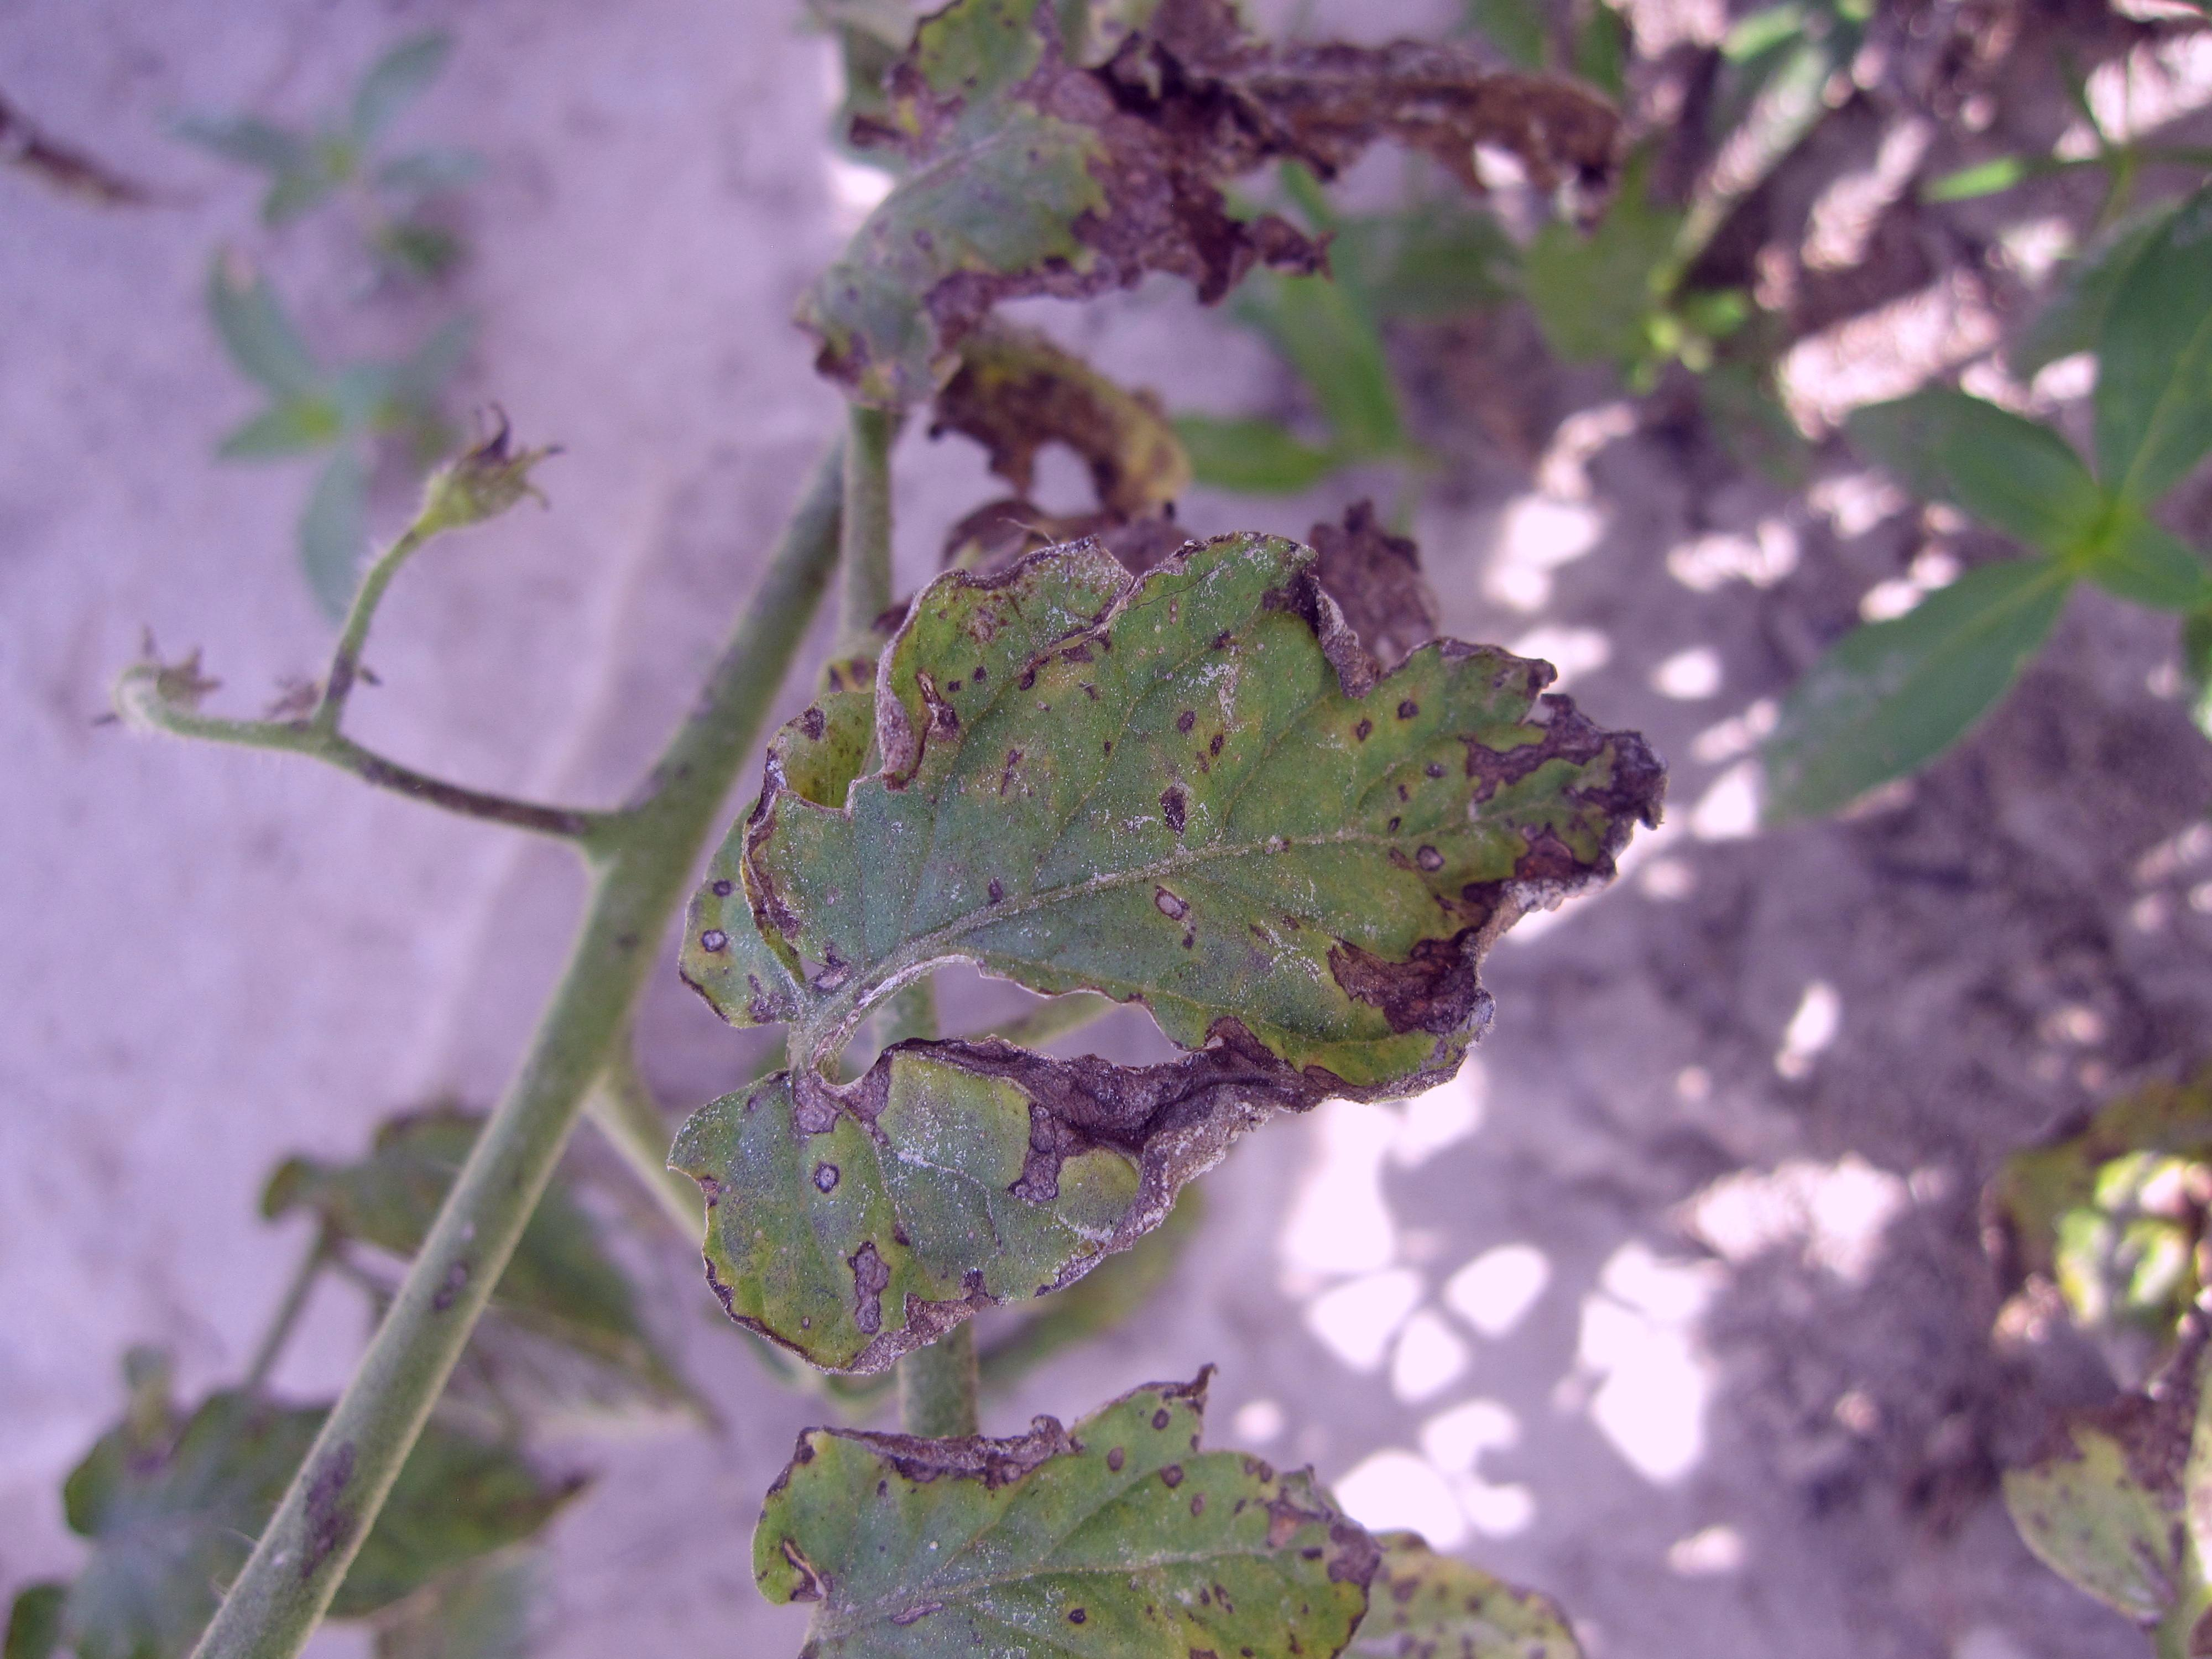Tomato leaf bacterial spot: (589, 467, 1644, 1377)
